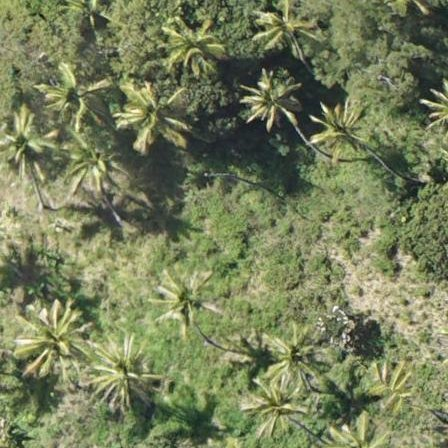palm_tree: (15, 305, 85, 380), (86, 337, 149, 405), (41, 62, 103, 129), (119, 79, 186, 141), (153, 271, 215, 334), (262, 327, 323, 386), (159, 19, 221, 74), (255, 1, 317, 53), (238, 73, 295, 129), (308, 102, 364, 159), (245, 379, 301, 435), (1, 112, 51, 172), (65, 140, 119, 191)
